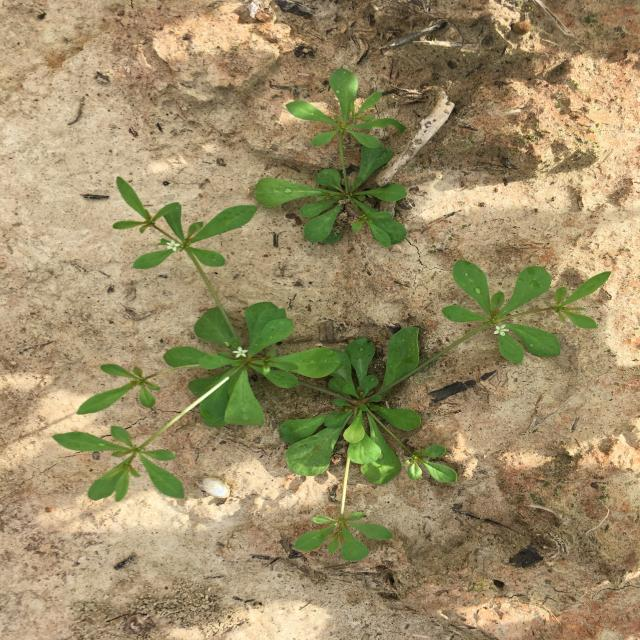Carpetweed: (51, 176, 612, 562), (254, 68, 408, 249)
